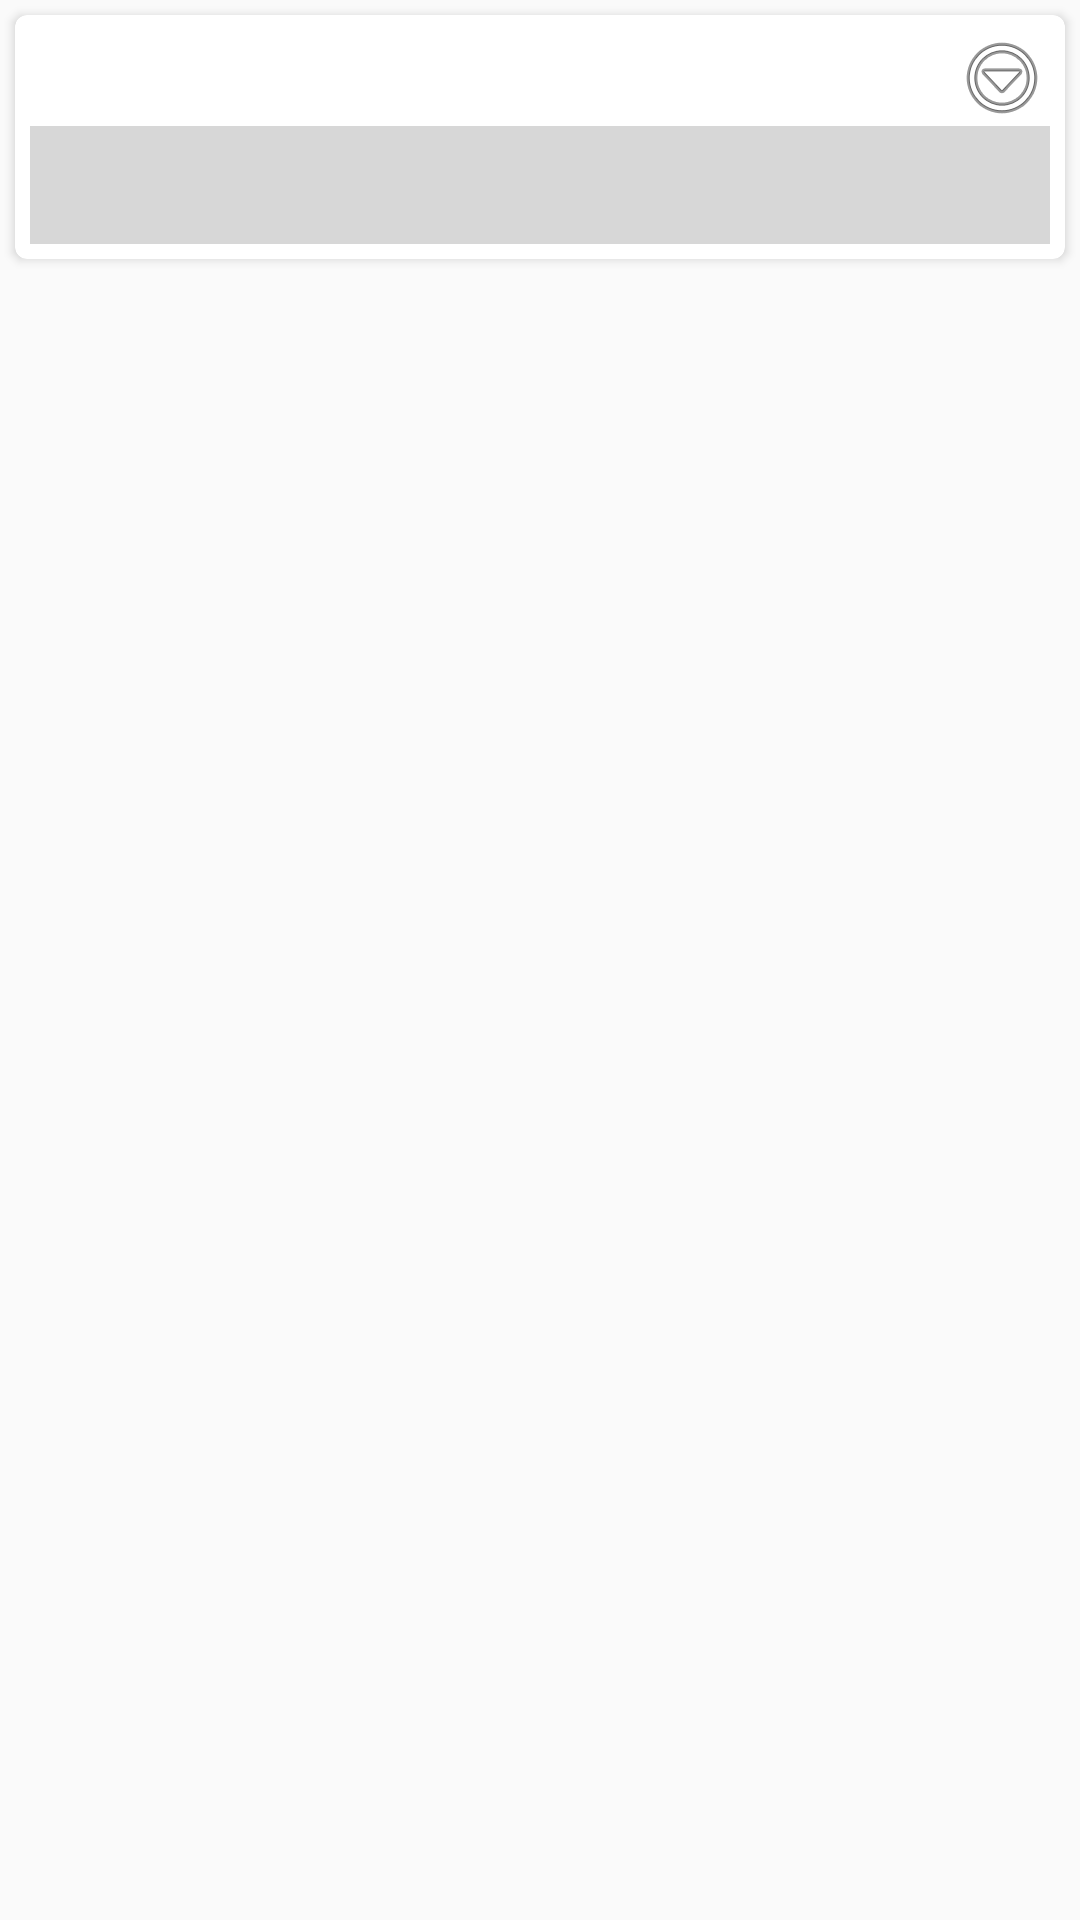

Locate icon controls on the screen. Image size 1080px×1920px, boxes as (x1, y1, x2, y2).
Options menu: (966, 42, 1038, 114)
